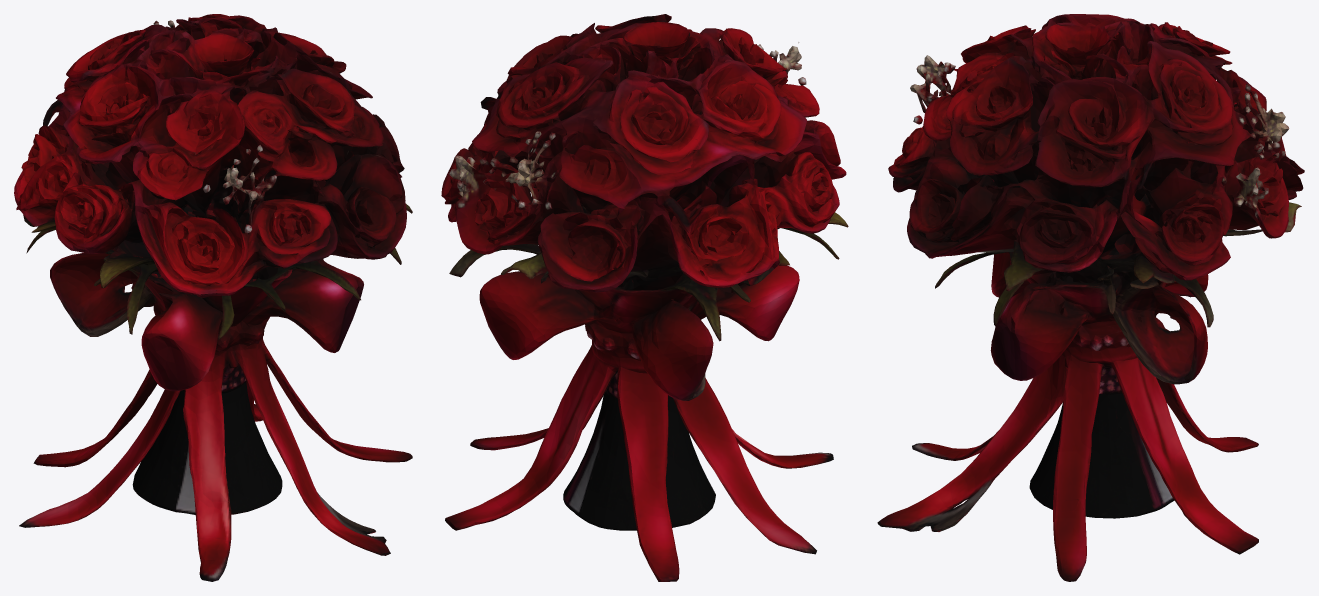
Rendered from beautiful-roses-bouquet.glb.
3 views of the same model, side by side, from view 1: azimuth 30°, elevation 25°; view 2: azimuth 150°, elevation 25°; view 3: azimuth 270°, elevation 25° (orthographic).
Parts seen in each view (by area): view 1: world; view 2: world; view 3: world.
Part boxes in pixels (x1,y1,x2,y2): world: [14, 14, 412, 581]; world: [441, 14, 848, 581]; world: [877, 14, 1304, 581].
Size of the model in its own units: 0.8362 by 0.9935 by 0.8356.
1 material, 1 textured.
